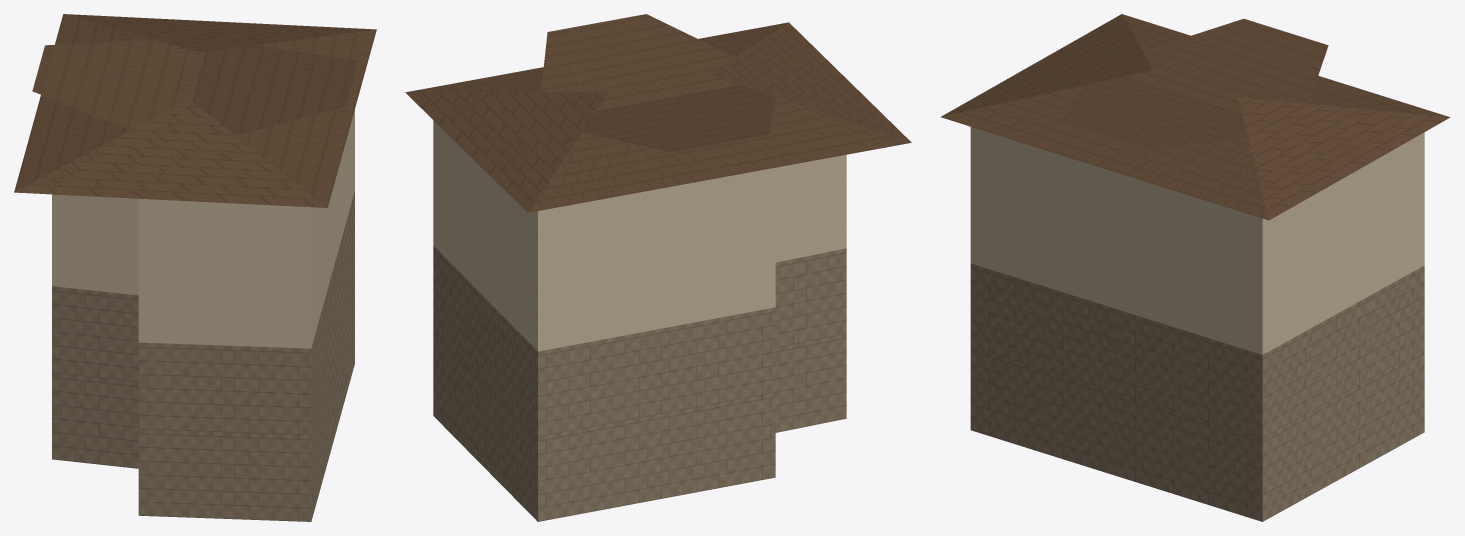
File: bld_c28_-31_492.gltf
The picture shows the model from 3 angles, left to right: view 1: azimuth 30°, elevation 25°; view 2: azimuth 150°, elevation 25°; view 3: azimuth 270°, elevation 25°; orthographic projection. The views are drawn at different scales.
Visible parts, largest first — view 1: bld_c28_-31_492; view 2: bld_c28_-31_492; view 3: bld_c28_-31_492.
Boxes of the visible parts, left/top/right/bottom form: bld_c28_-31_492: left=14, top=14, right=376, bottom=521; bld_c28_-31_492: left=405, top=14, right=911, bottom=521; bld_c28_-31_492: left=940, top=14, right=1449, bottom=521.
Size of the model in its own units: 13.14 by 10.3 by 13.73.
Materials: 3 (3 with a texture image).
